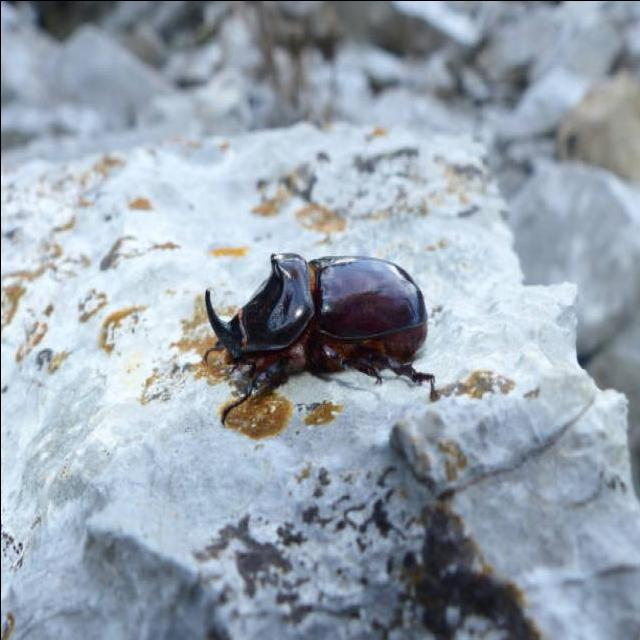Rhino-beetle: (171, 248, 451, 412)
